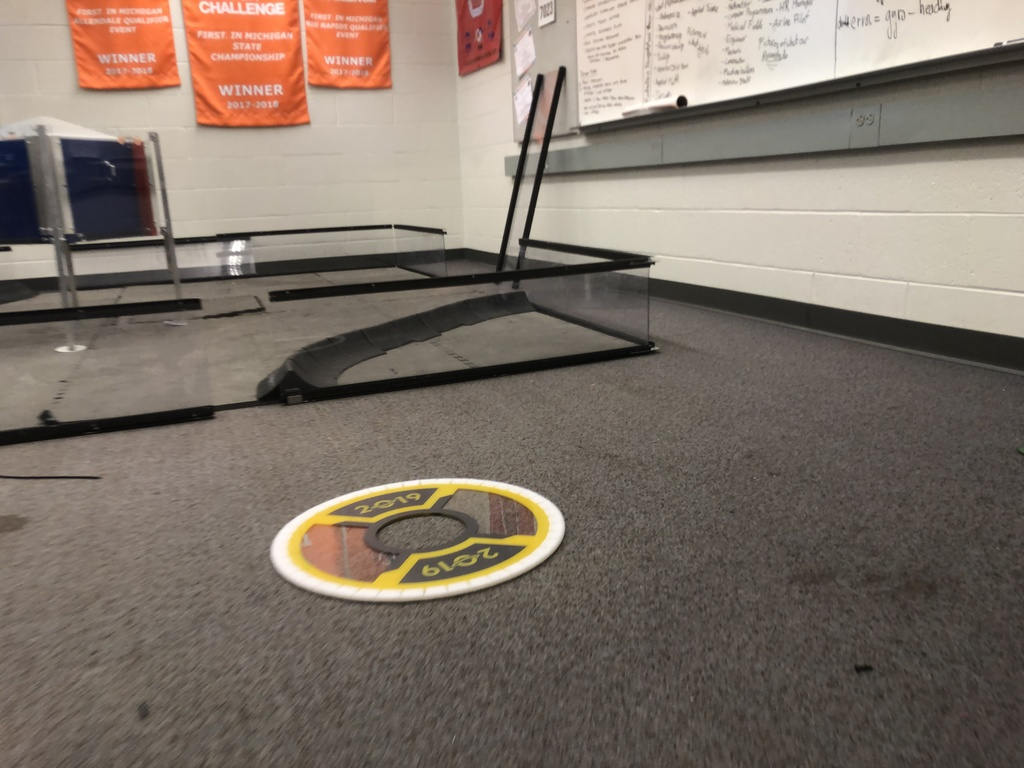hatch_panel: (262, 470, 569, 597)
